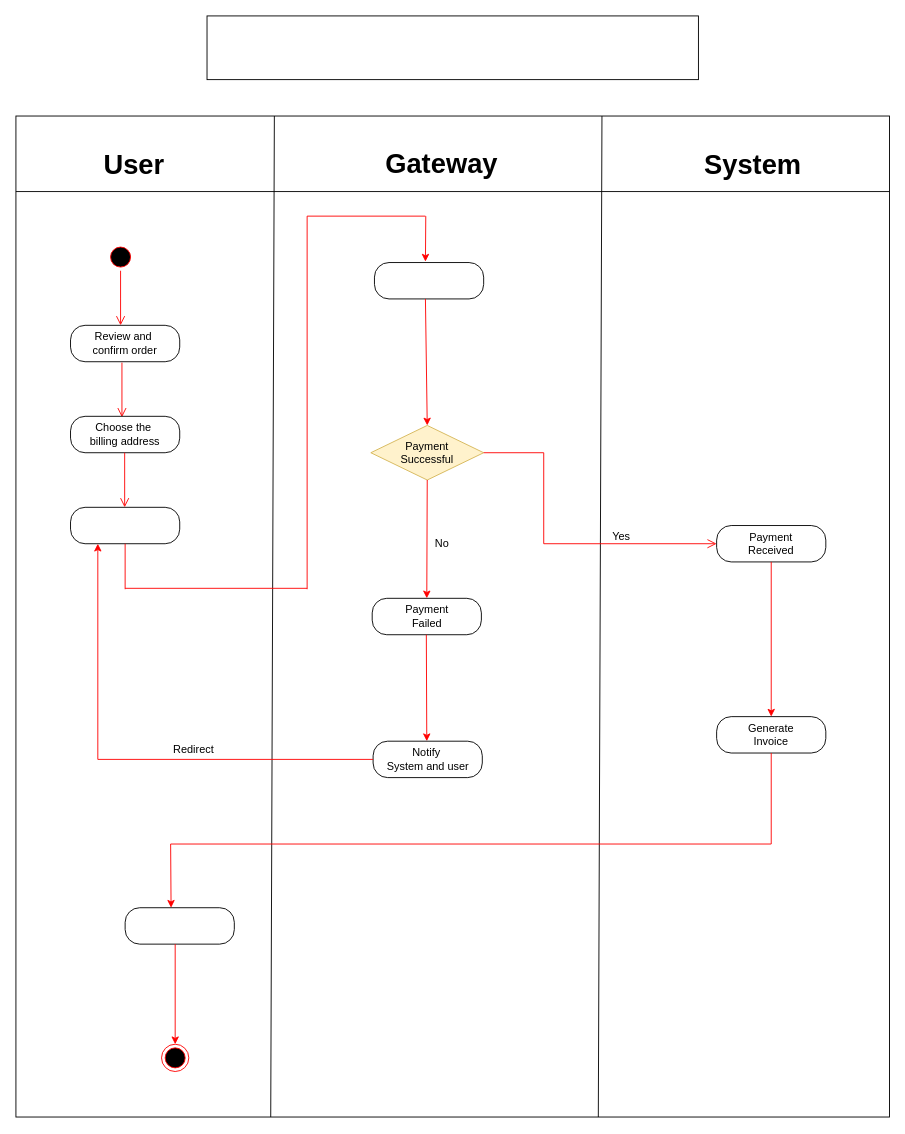
Some shapes in this 905 by 1134 pixel diagram are drawn without their labels. Here are the shapes that lost their labels. From the top down, the centre of each, then its label:
the point at 452,47: Payment Activity Diagram
the point at 429,280: Authenticate Payment
the point at 125,525: Make Payment
the point at 179,925: Notify Customer (Order Placed)
